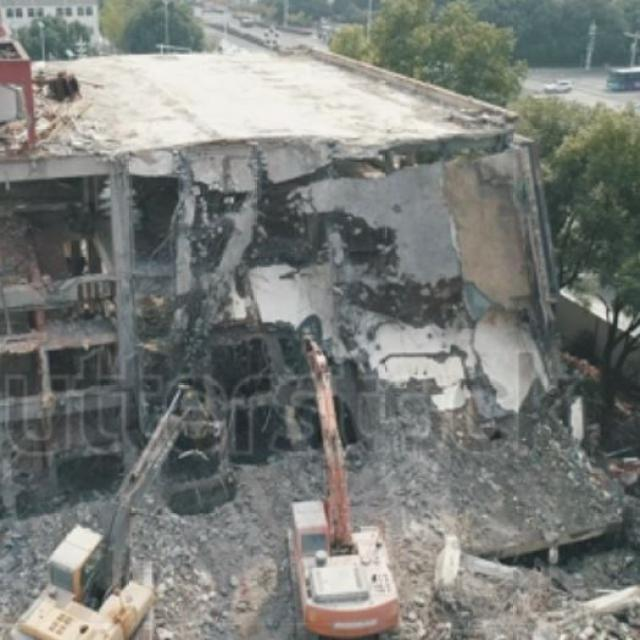collapsed_building: (0, 155, 557, 544)
